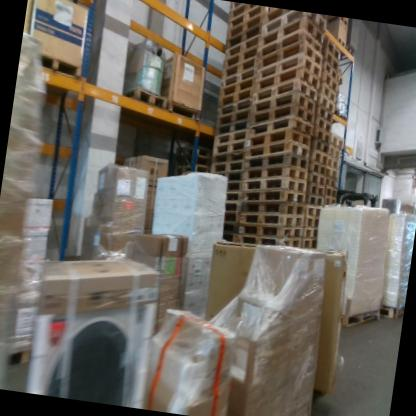pallet: (30, 51, 89, 98), (330, 297, 383, 343), (118, 80, 168, 123), (161, 92, 202, 126), (373, 295, 403, 321), (288, 408, 318, 416)
